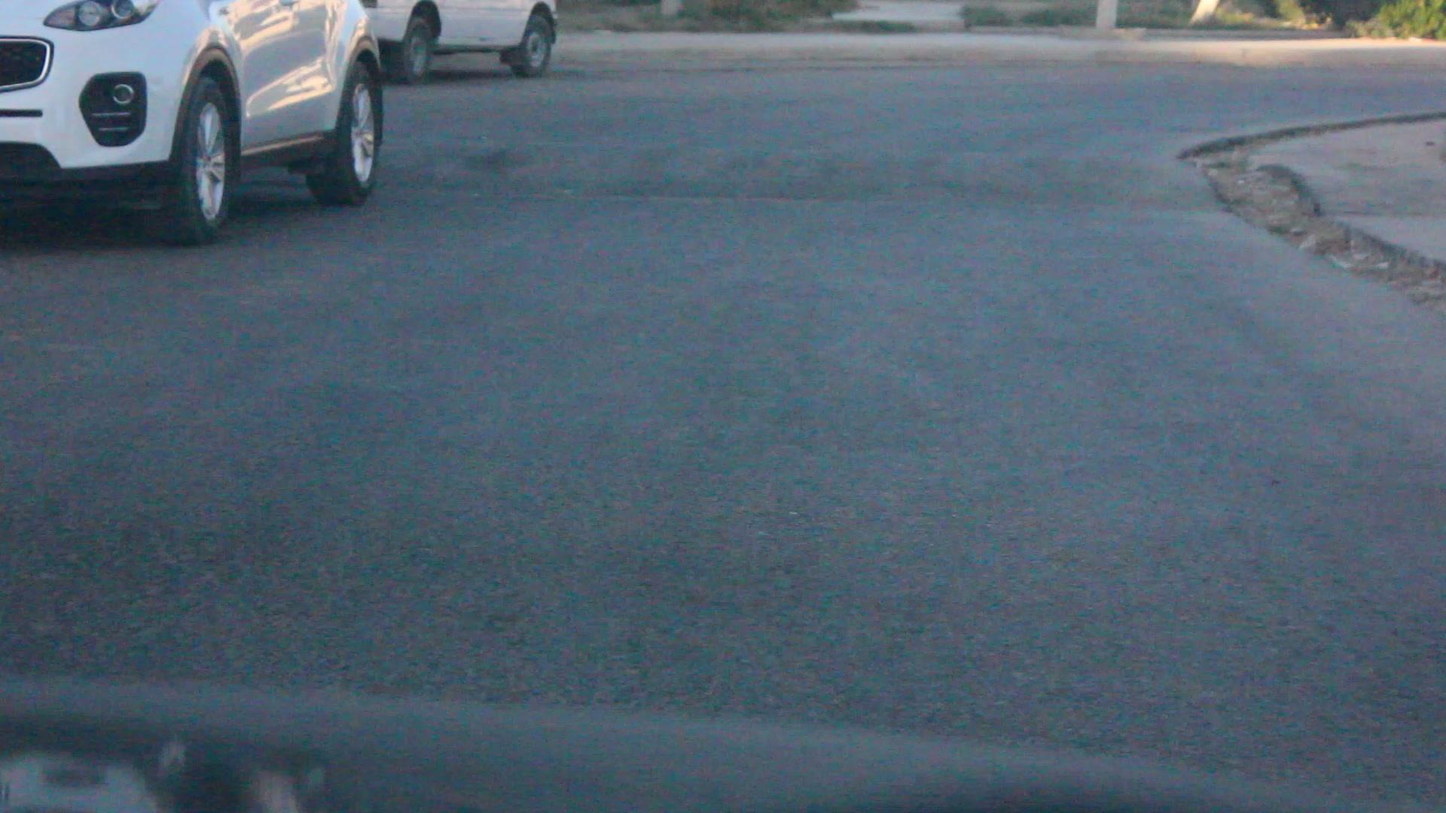Bump: (388, 124, 1214, 216)
